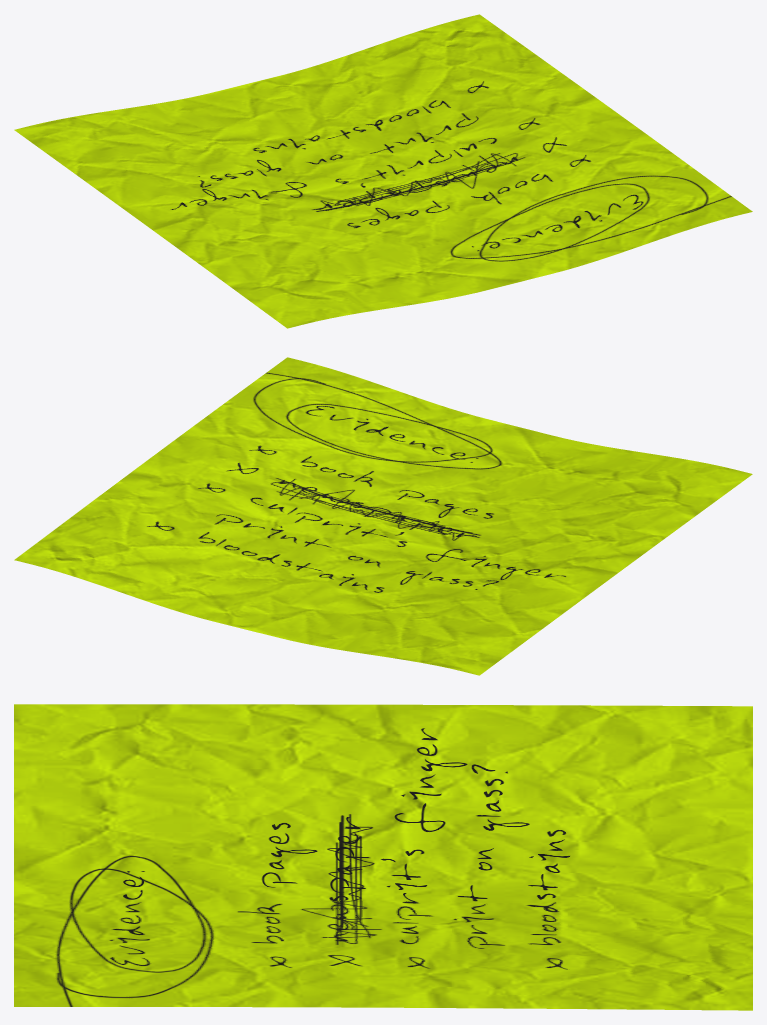
Rendered from Sticky Note yellow NEW.fbx.
3 renders of one model, top to bottom at view 1: azimuth 30°, elevation 25°; view 2: azimuth 150°, elevation 25°; view 3: azimuth 270°, elevation 25°, orthographic. The views are drawn at different scales.
Parts seen in each view (by area): view 1: Sticky note yellow; view 2: Sticky note yellow; view 3: Sticky note yellow.
Part boxes in pixels (box(x1,y1,x2,y2)): Sticky note yellow: box(14, 14, 752, 328); Sticky note yellow: box(14, 357, 752, 675); Sticky note yellow: box(14, 704, 752, 1010).
Bounding box in the file's own units: 58.37 × 1.88 × 59.38.
